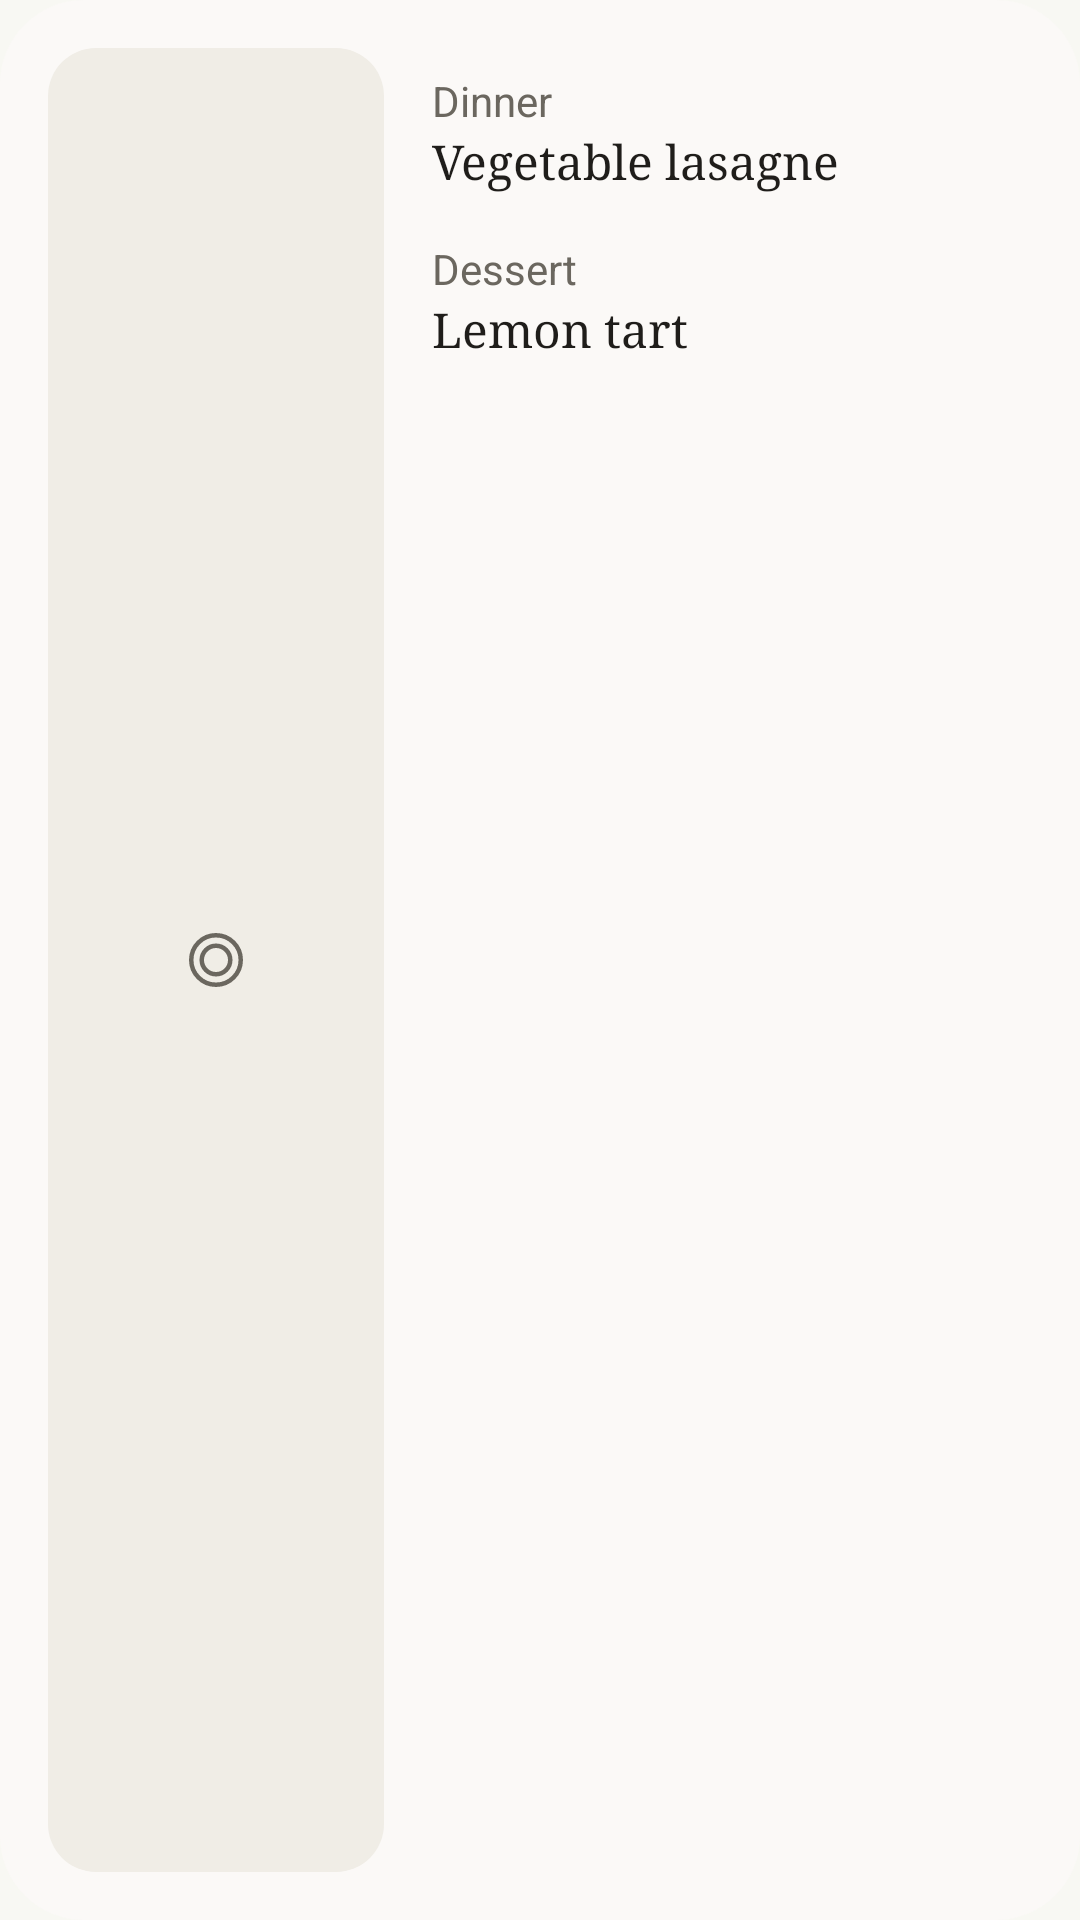

Icons on this 1080 × 1920 Android screen, each with its box as [left=x1, top=y1, right=x2, bottom=y2]:
plate: [left=189, top=933, right=243, bottom=987]
